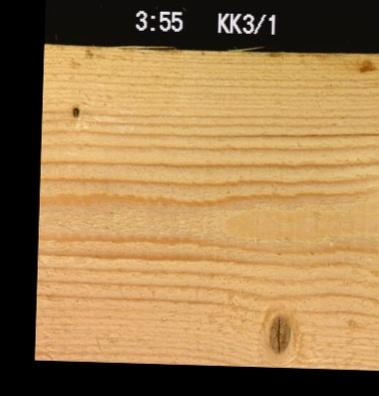dry_knot: (69, 104, 79, 116)
sound_knot: (265, 312, 291, 352)
